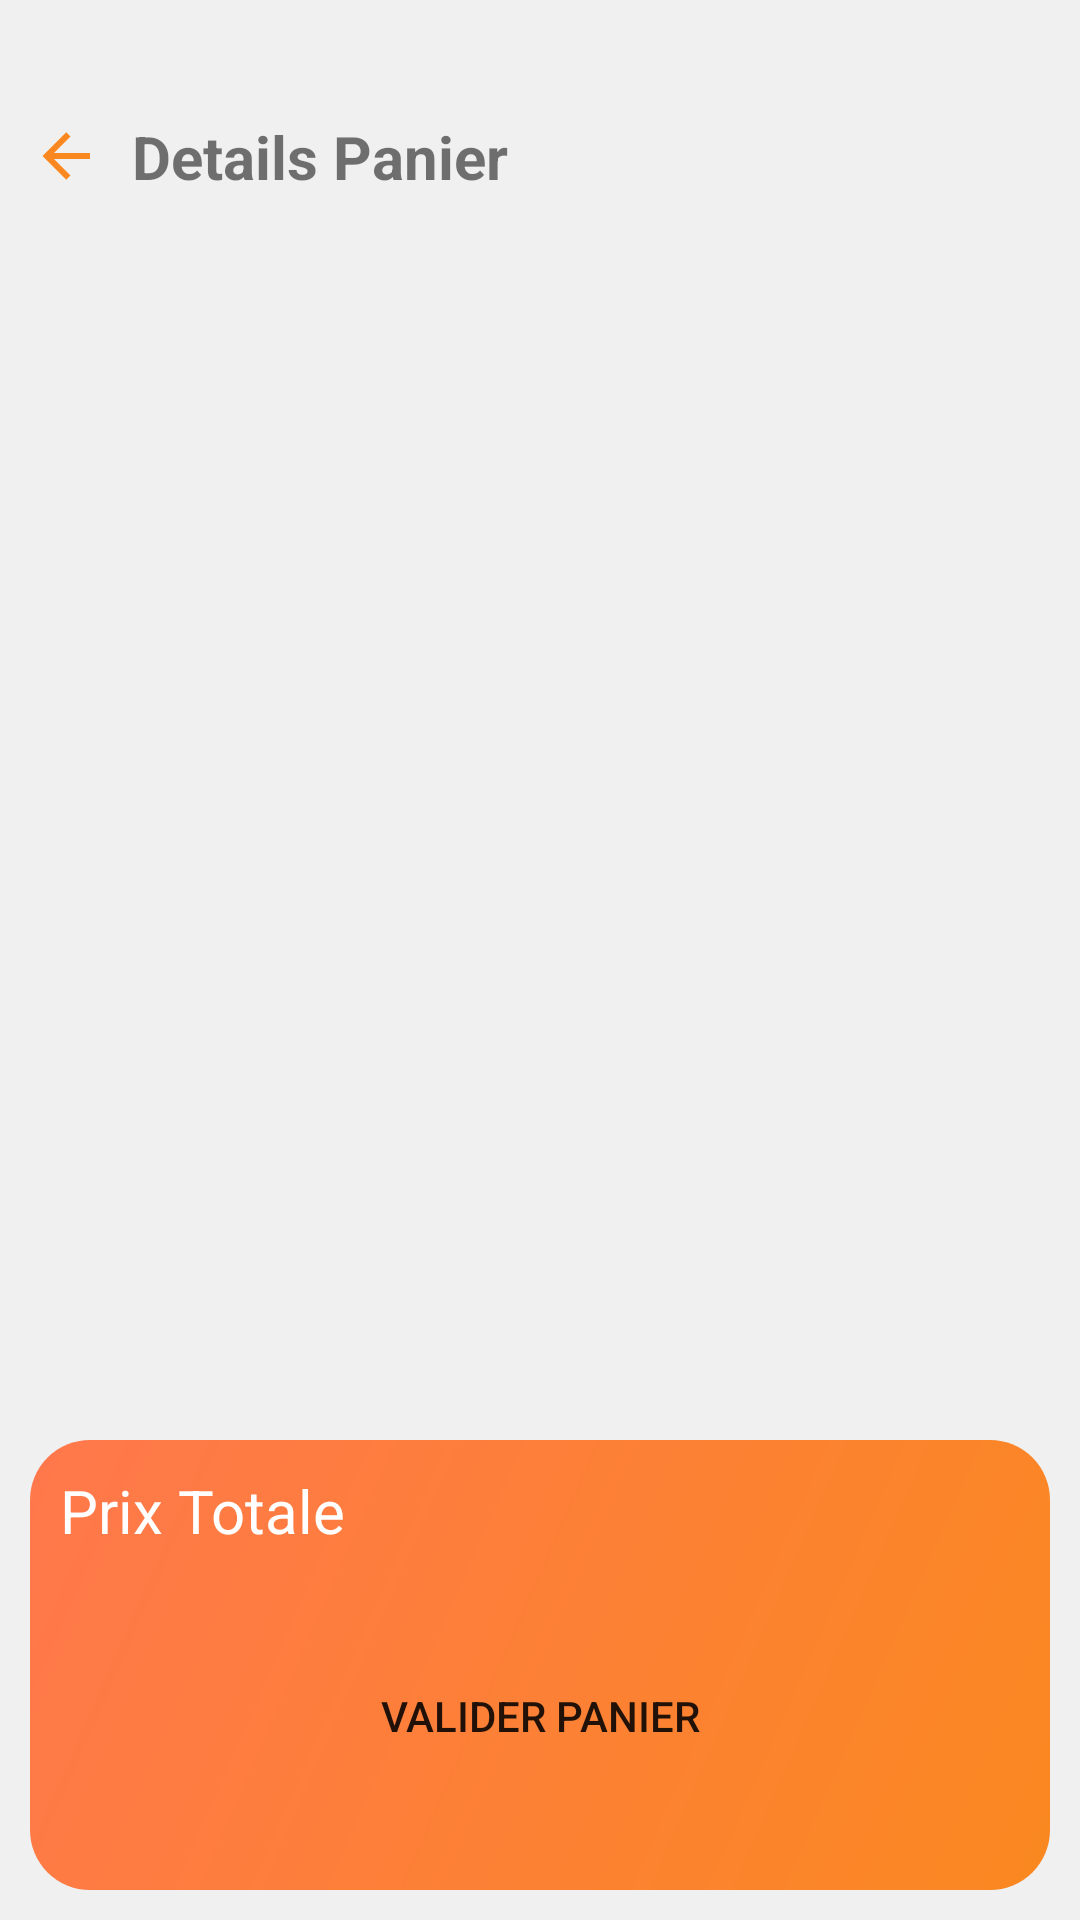

Icon bounding boxes for this 1080*1920 phone screenshot, format bbox=(x1, y1, x2, y2):
arrow left: bbox=(42, 132, 90, 180)
